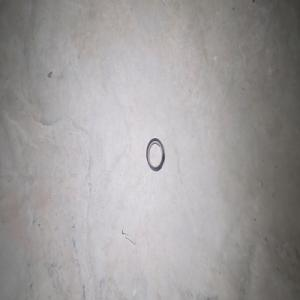Tape: (146, 137, 164, 171)
